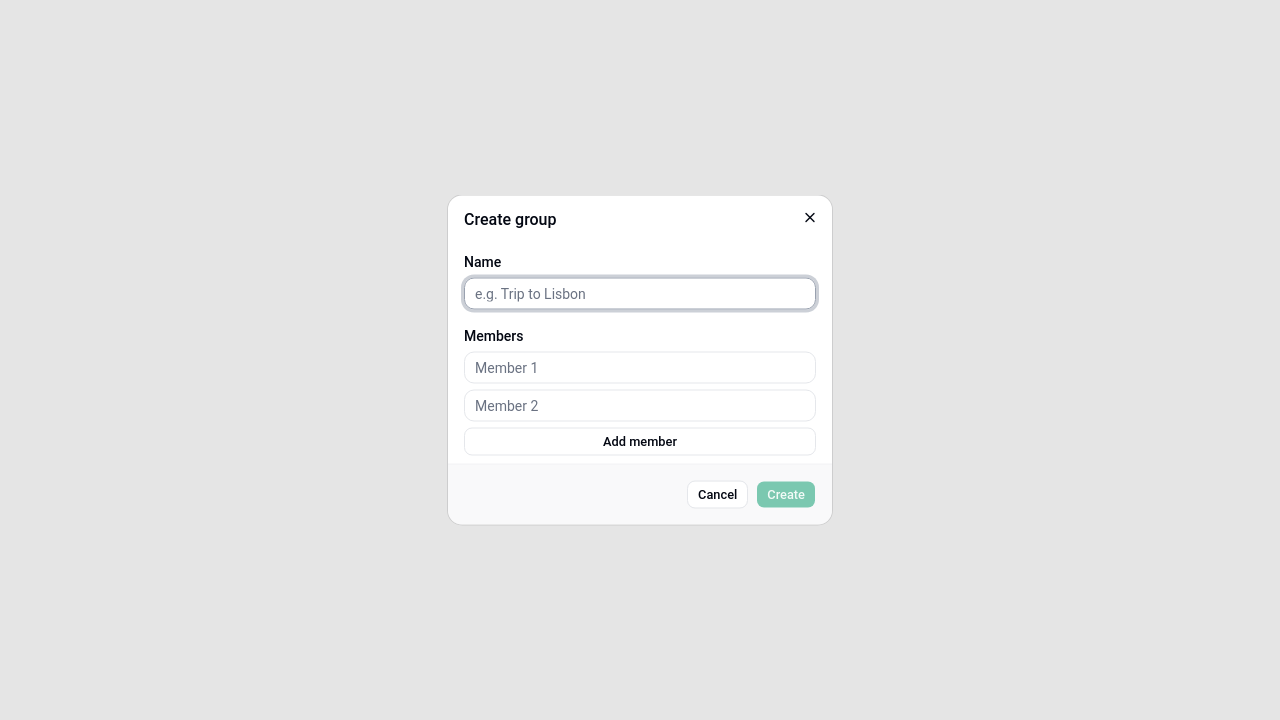
it: AddGroupModal › adding member rows › clicking Add member adds a third input row
This screenshot has width=1280, height=720.
Click the button "Add member": [640, 442] box [464, 428, 816, 456]
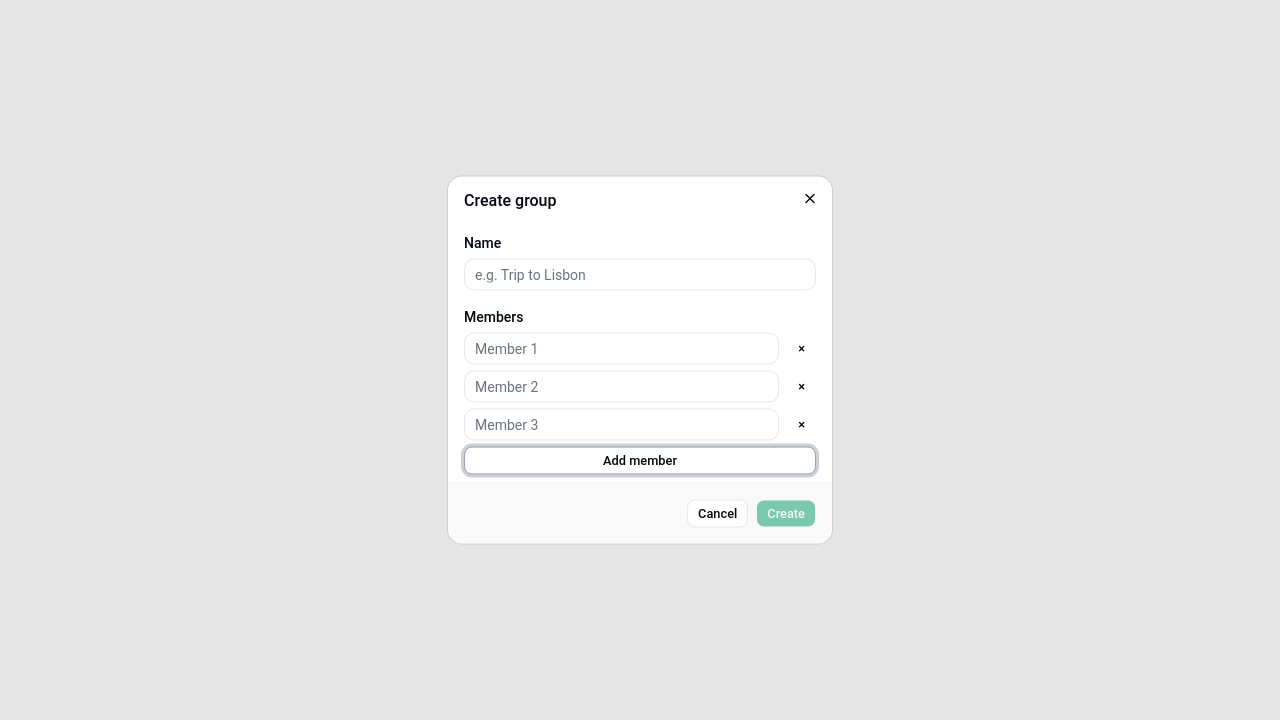
Expected: the field with placeholder "Member 3" is shown, [464, 408, 779, 440]
